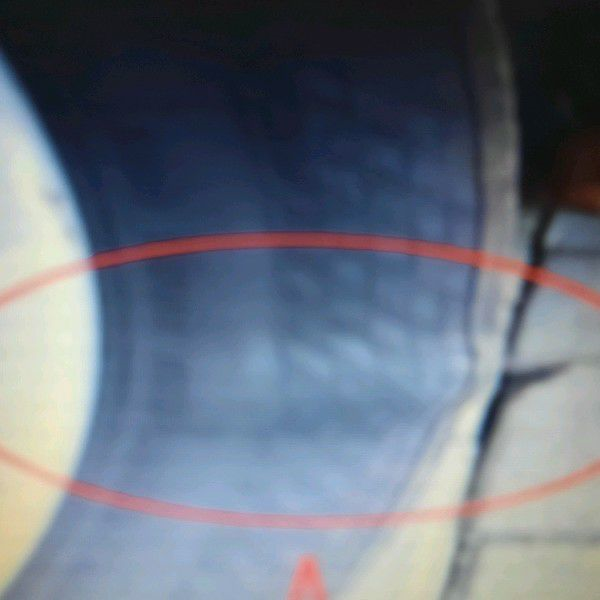CBU: (97, 332, 506, 441)
